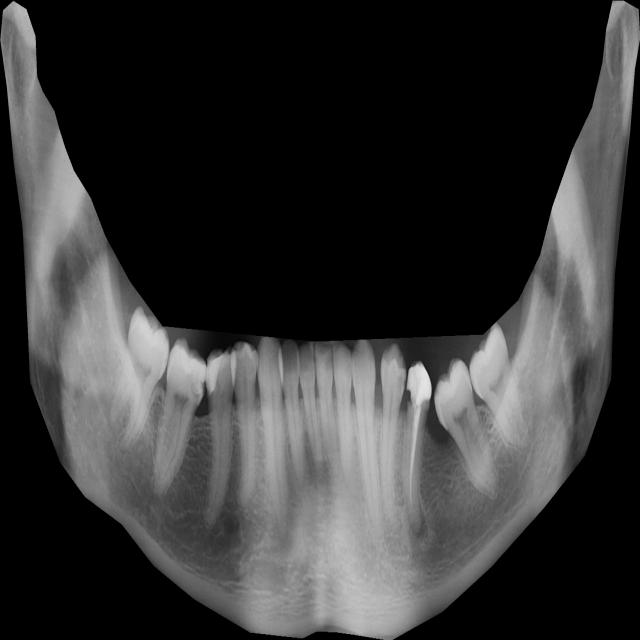mandibula: (0, 1, 640, 640)
